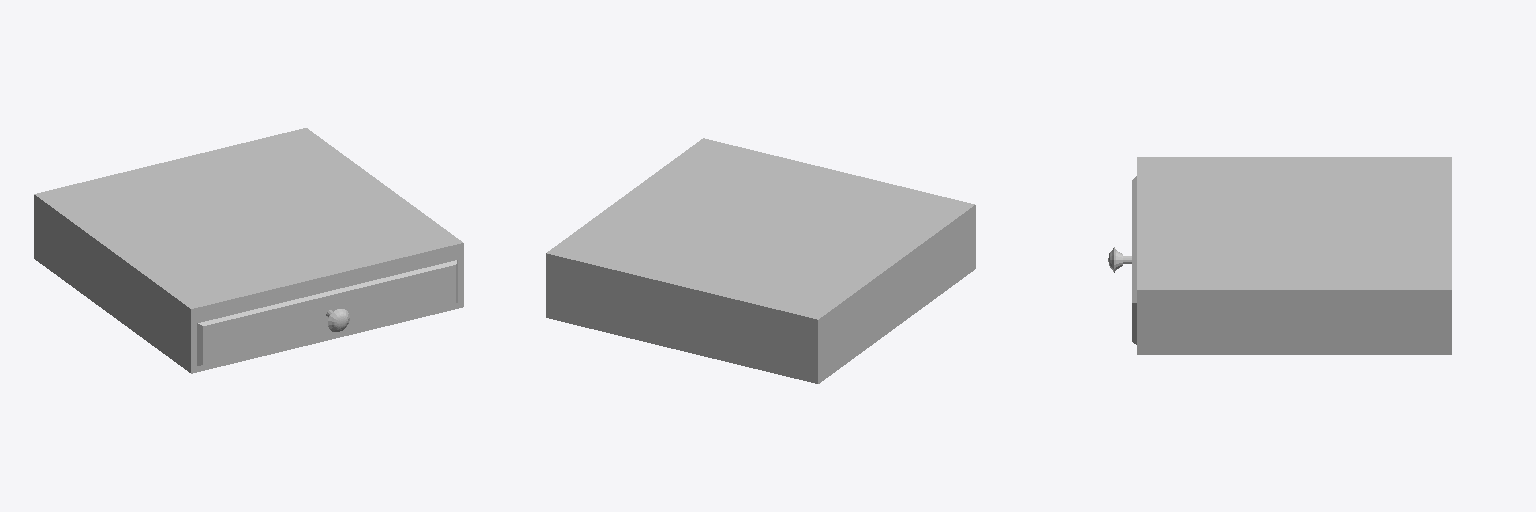
Rendered from sideTableShelf_4.obj.
3 renders of one model, left to right at view 1: azimuth 30°, elevation 25°; view 2: azimuth 150°, elevation 25°; view 3: azimuth 270°, elevation 25°, orthographic.
Bounding box in the file's own units: 7.37 × 1.67 × 8.04.